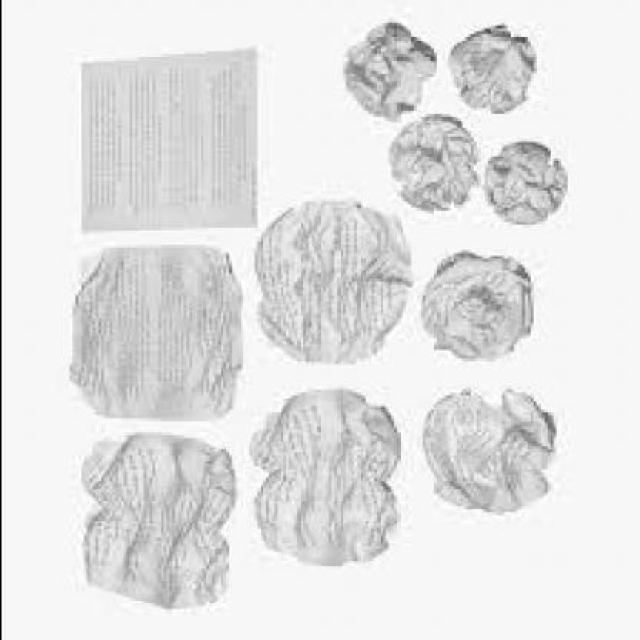PAPER: (74, 42, 255, 230), (66, 242, 240, 418), (74, 430, 231, 605), (250, 196, 410, 364), (251, 392, 389, 560), (418, 386, 552, 512), (416, 251, 530, 355), (342, 20, 436, 117), (384, 110, 474, 208), (443, 20, 532, 111), (478, 139, 560, 219)
